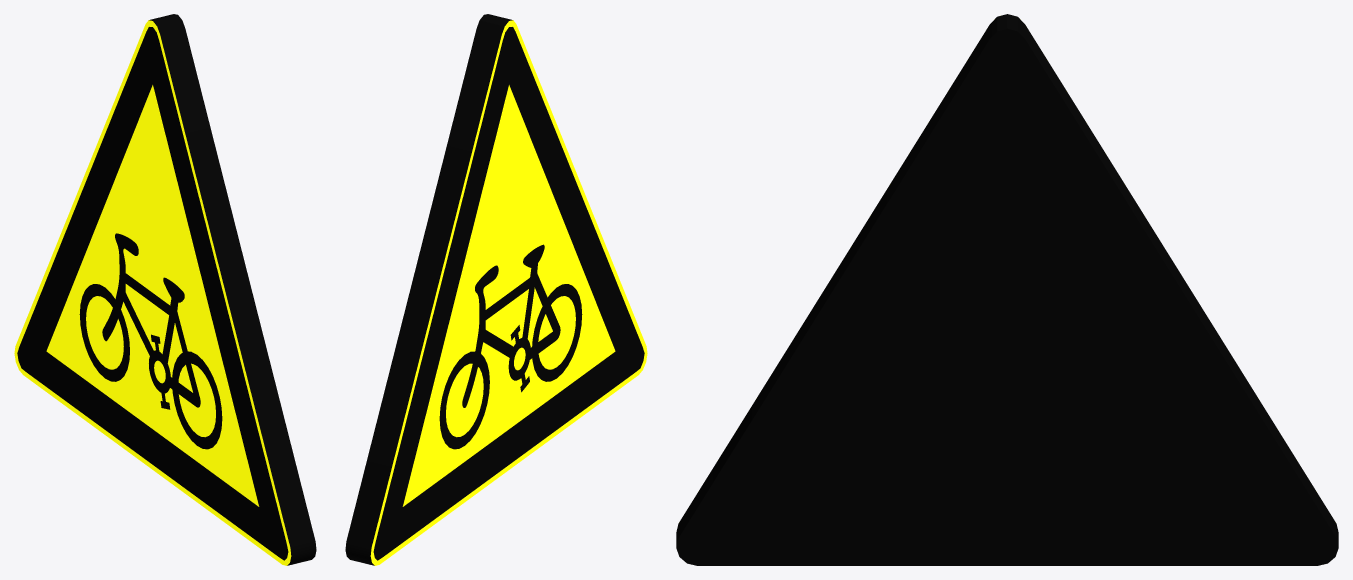
The model's file is Pay_Attention_To_NonMotorVehicle.glb.
3 renders of one model, left to right at view 1: azimuth 30°, elevation 25°; view 2: azimuth 150°, elevation 25°; view 3: azimuth 270°, elevation 25°, orthographic. The views are drawn at different scales.
Parts seen in each view (by area): view 1: Pay_Attention_To_NonMotorVehicle; view 2: Pay_Attention_To_NonMotorVehicle; view 3: Pay_Attention_To_NonMotorVehicle.
Part boxes in pixels (bbox=[...]): Pay_Attention_To_NonMotorVehicle: bbox=[14, 14, 316, 565]; Pay_Attention_To_NonMotorVehicle: bbox=[345, 14, 647, 565]; Pay_Attention_To_NonMotorVehicle: bbox=[676, 14, 1338, 565].
Size of the model in its own units: 0.0643 by 1.02 by 1.14.
